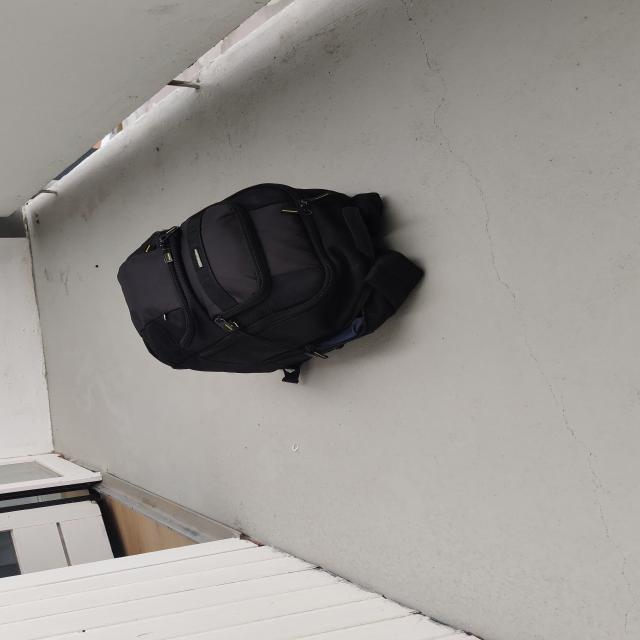backpack: (106, 173, 433, 383)
